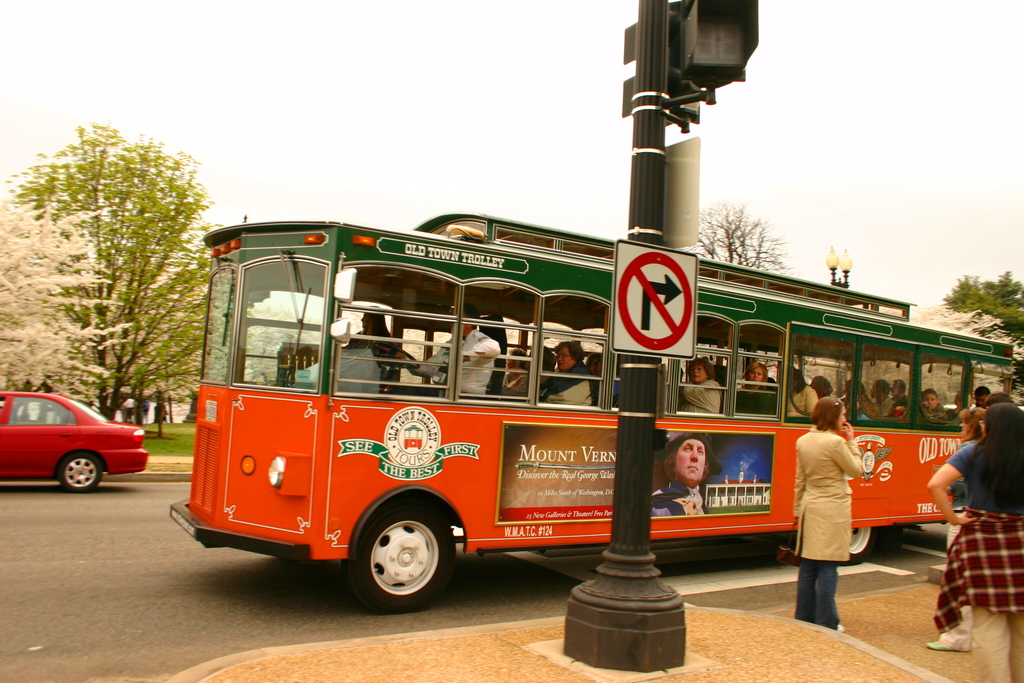Bus: (168, 212, 1015, 613)
